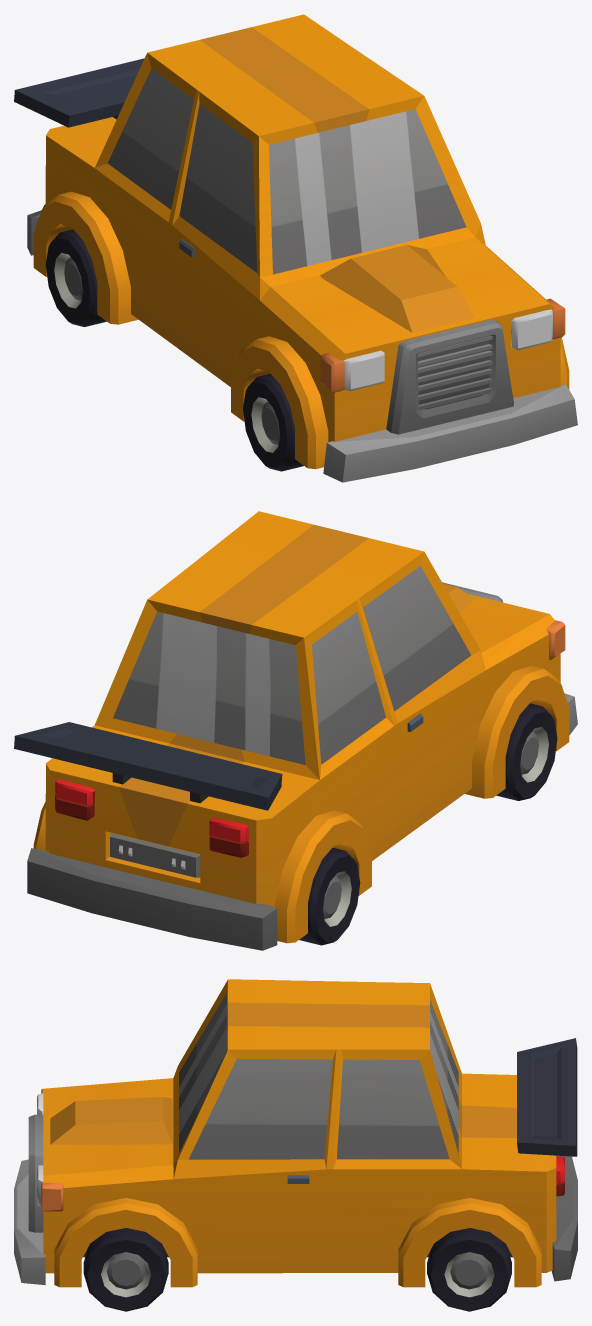
The model's file is SportCar_14.fbx.
The picture shows the model from 3 angles, top to bottom: view 1: azimuth 30°, elevation 25°; view 2: azimuth 150°, elevation 25°; view 3: azimuth 270°, elevation 25°; orthographic projection. The views are drawn at different scales.
Parts seen in each view (by area): view 1: SportCar_14, Wheel_fr, Wheel_br; view 2: SportCar_14, Wheel_br, Wheel_fr; view 3: SportCar_14, Wheel_fl, Wheel_bl.
Boxes of the visible parts, <box> form: SportCar_14: <box>14,14,577,482</box>; Wheel_fr: <box>243,373,303,471</box>; Wheel_br: <box>45,229,106,326</box>; SportCar_14: <box>14,511,577,950</box>; Wheel_br: <box>299,847,360,945</box>; Wheel_fr: <box>496,703,557,800</box>; SportCar_14: <box>14,979,577,1287</box>; Wheel_fl: <box>83,1228,168,1311</box>; Wheel_bl: <box>427,1228,511,1311</box>.
Size of the model in its own units: 112 by 110 by 233.
